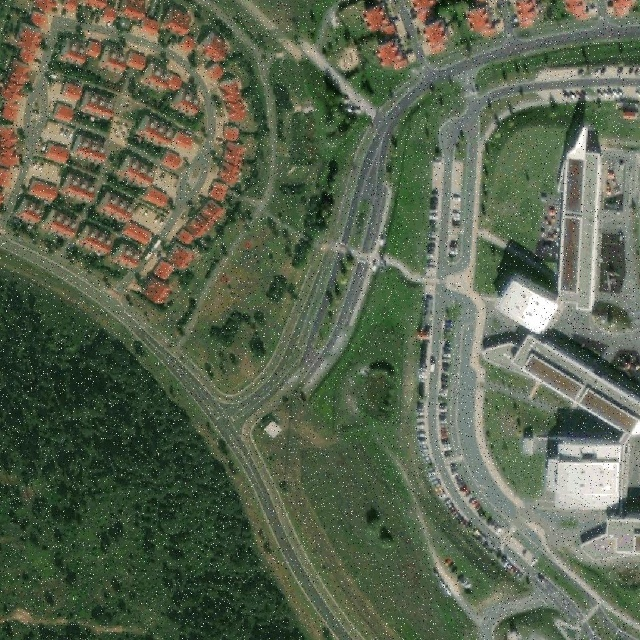vegetation: (0, 278, 322, 640), (290, 162, 336, 270), (207, 308, 265, 359), (367, 514, 392, 549), (267, 274, 297, 303), (276, 183, 308, 196)
